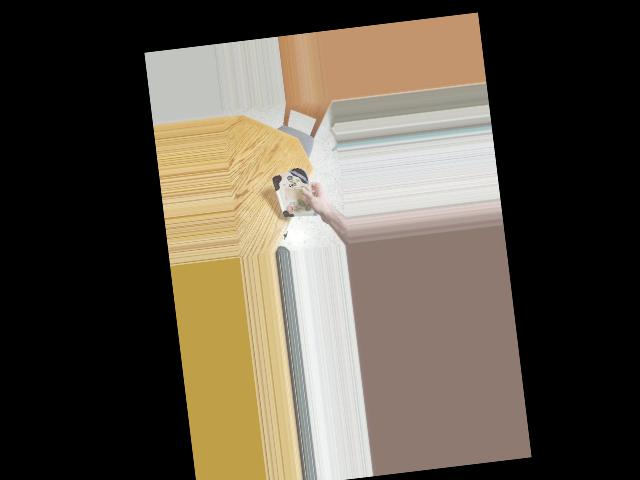cheese: (272, 164, 317, 230)
